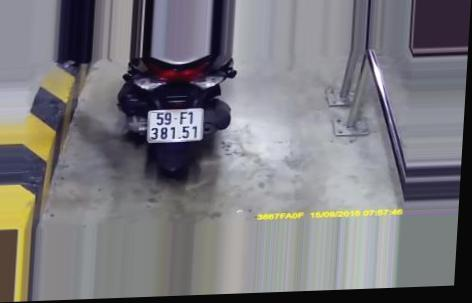License_Plate: (139, 105, 210, 152)
